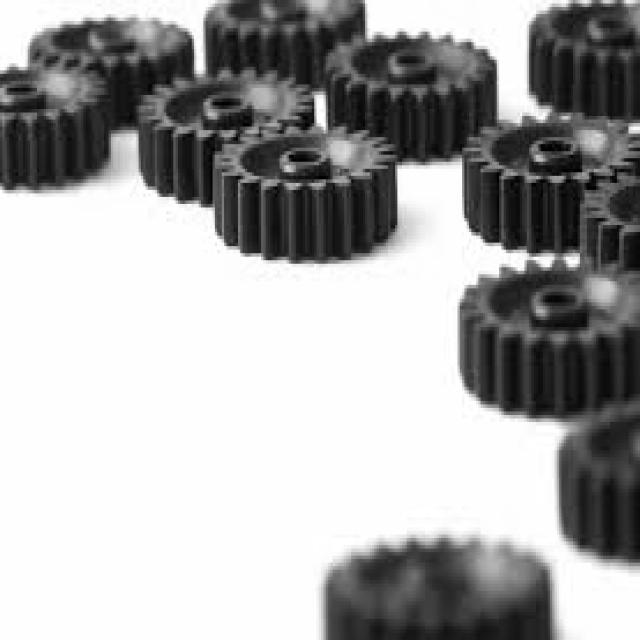No Fault: (190, 113, 416, 319), (451, 116, 633, 271), (465, 265, 627, 429), (320, 33, 503, 150), (9, 6, 205, 115), (140, 82, 301, 203), (523, 404, 638, 554), (523, 31, 640, 118)
